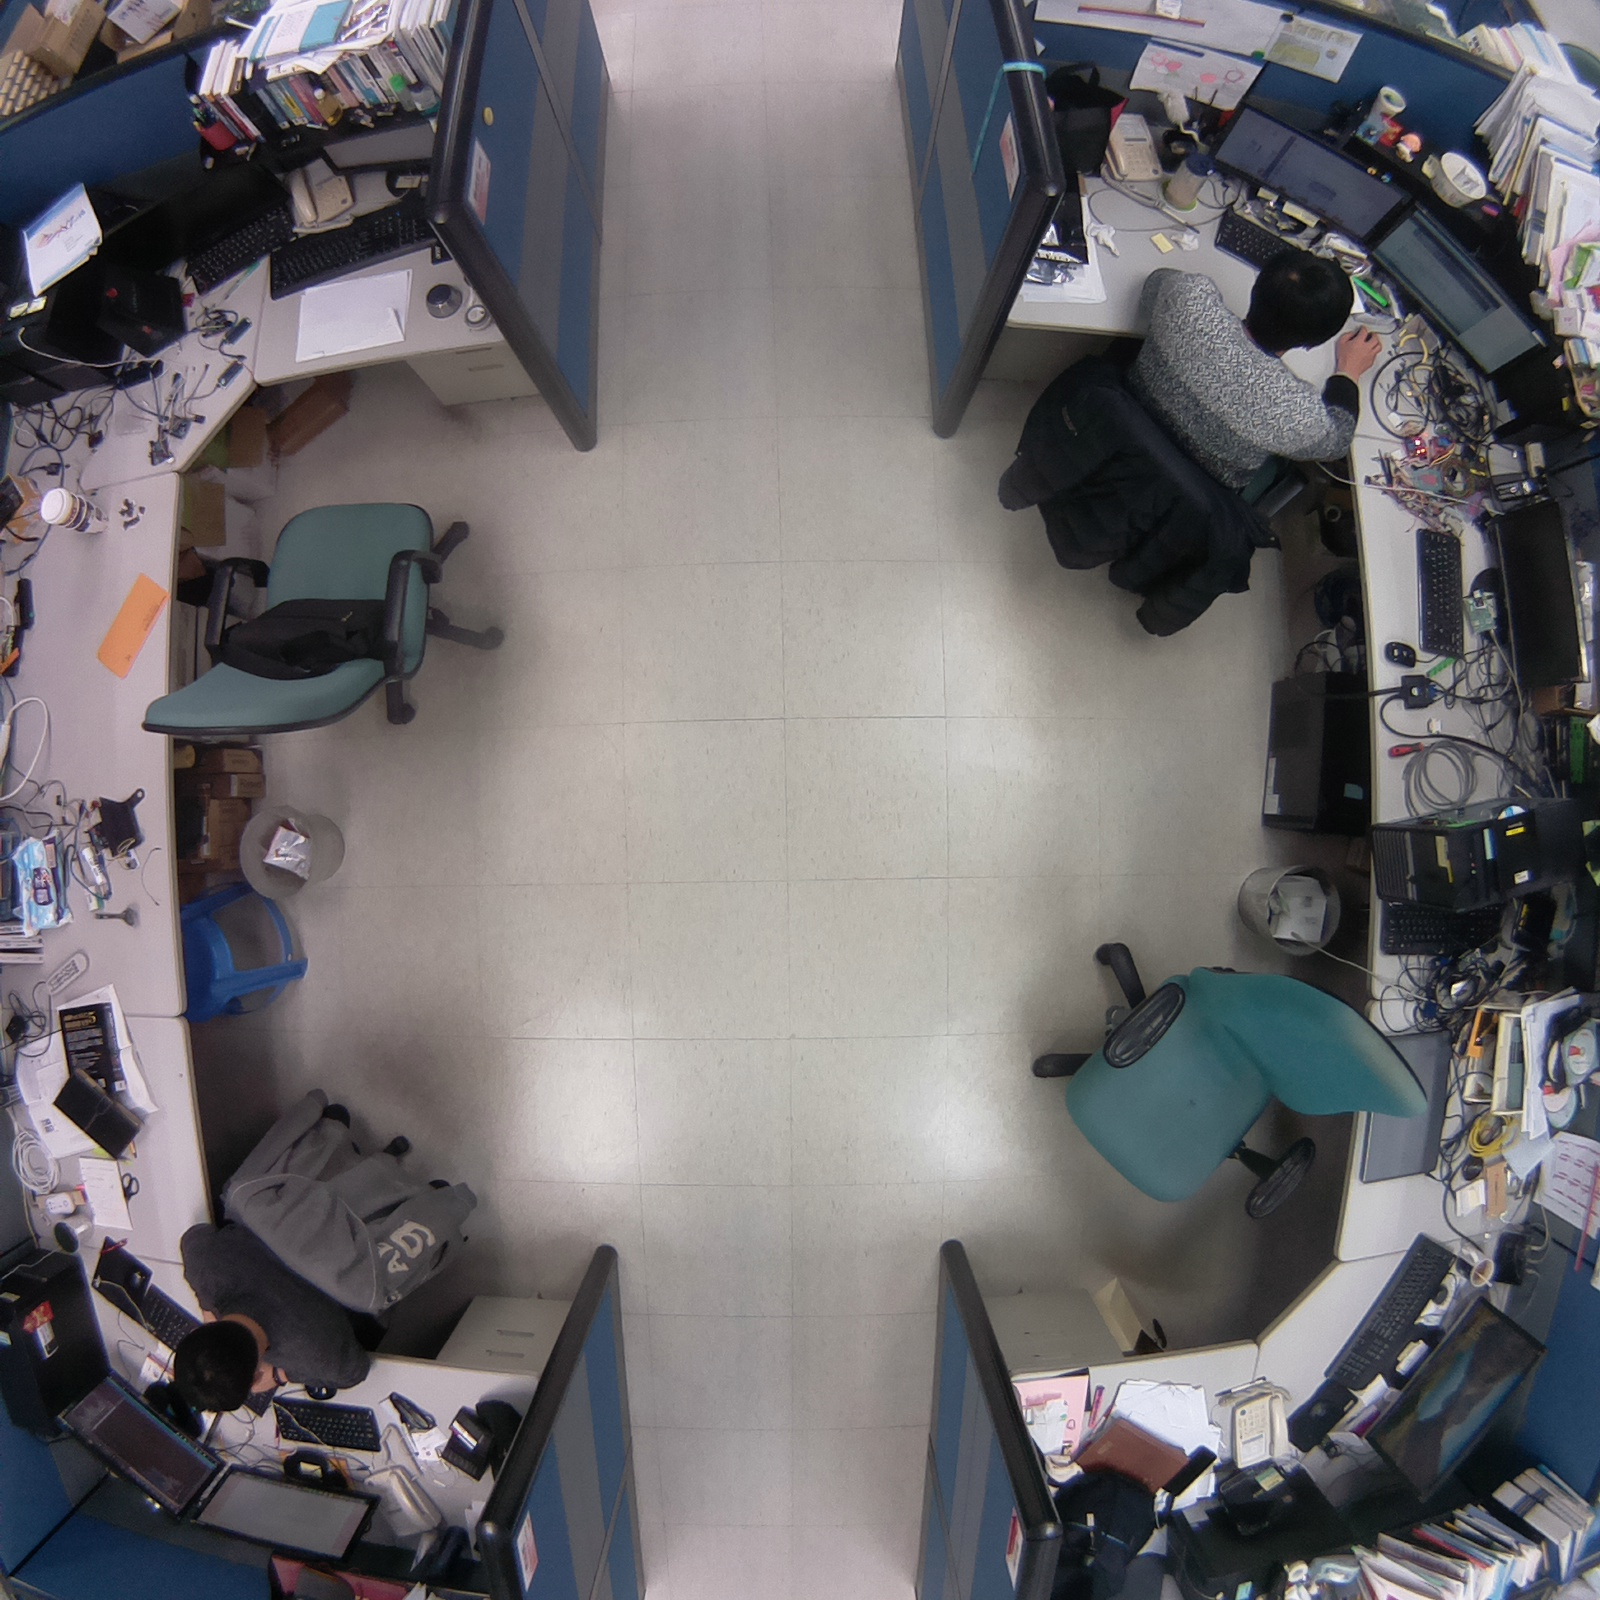chair: (1004, 926, 1449, 1237), (111, 478, 535, 766)
sitting: (976, 239, 1401, 658), (144, 1080, 500, 1442)
